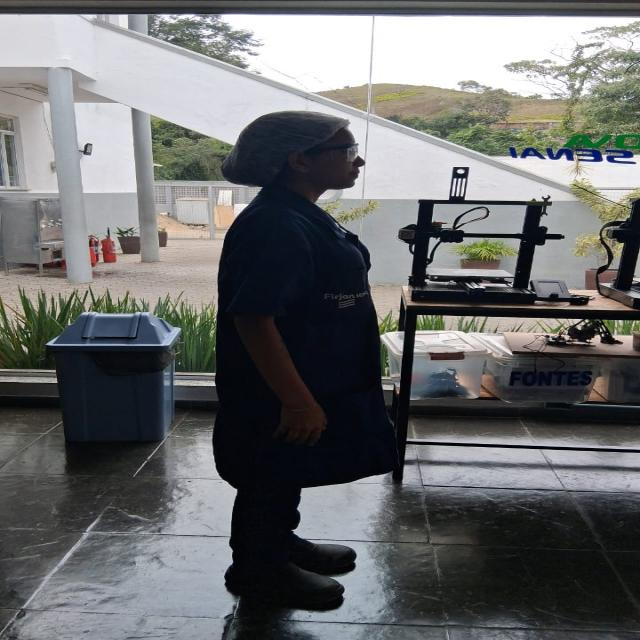BOTA: (221, 560, 353, 609), (229, 533, 357, 566)
JALECO: (213, 184, 413, 492)
OCULOS: (288, 140, 364, 170)
SEM LUVA: (270, 406, 332, 450)
TOUCA: (221, 112, 355, 184)
